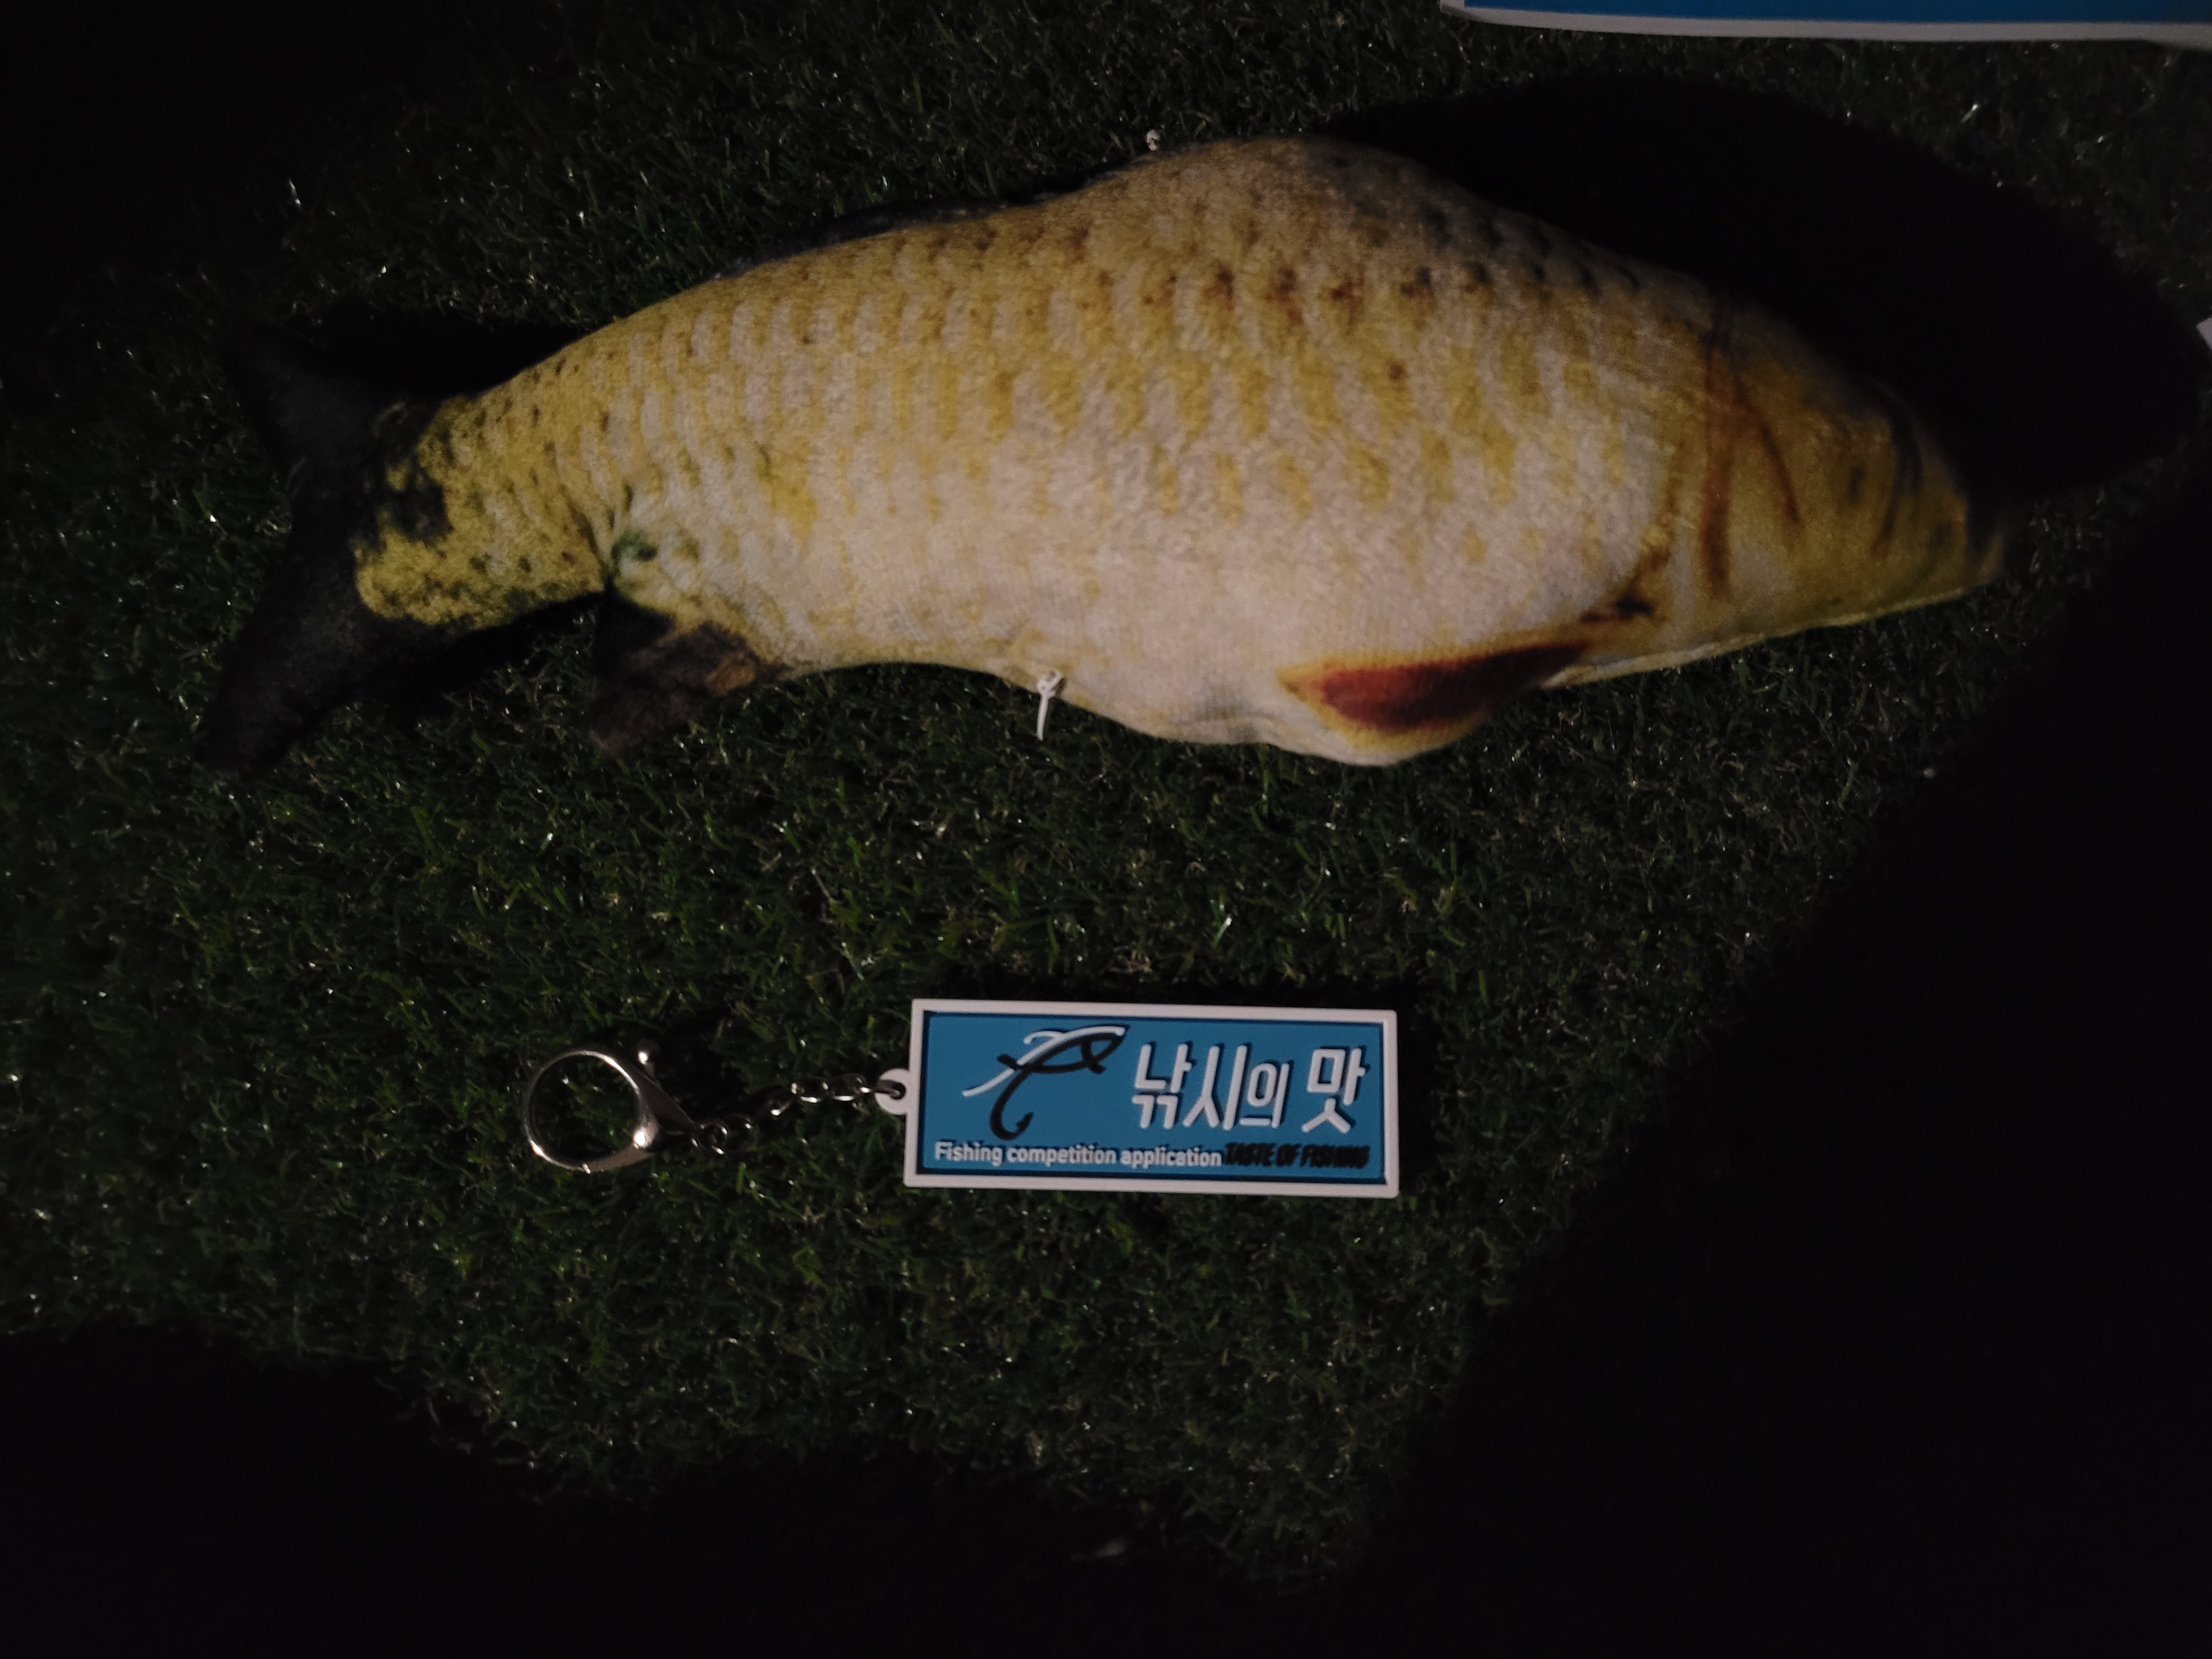fish: (225, 141, 2048, 769)
tag: (894, 995, 1406, 1202)
